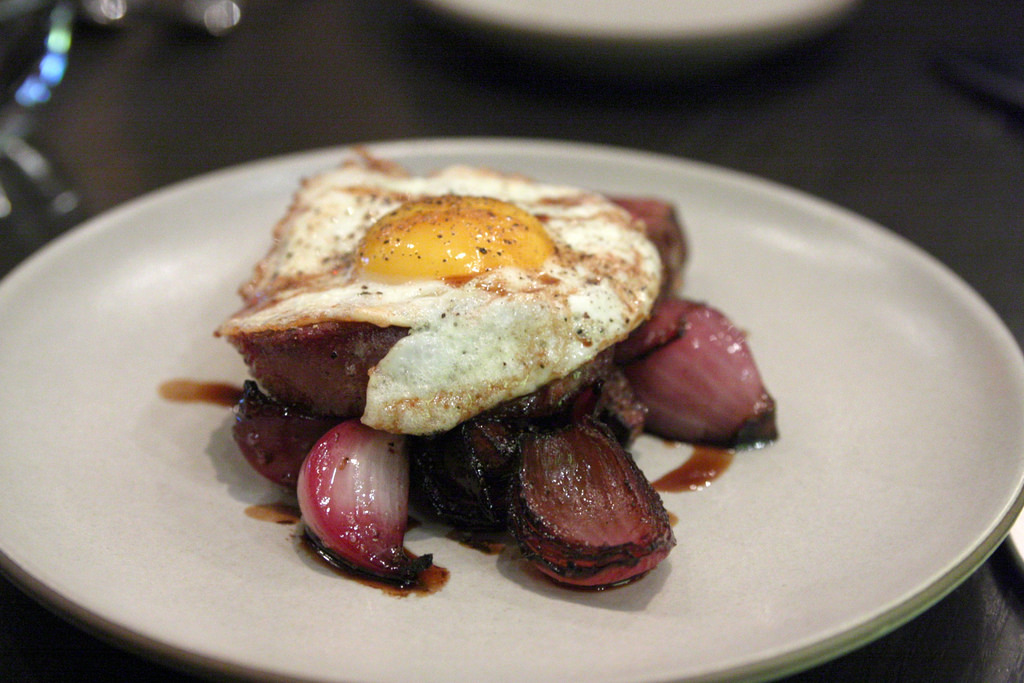fried egg: (265, 154, 661, 425)
